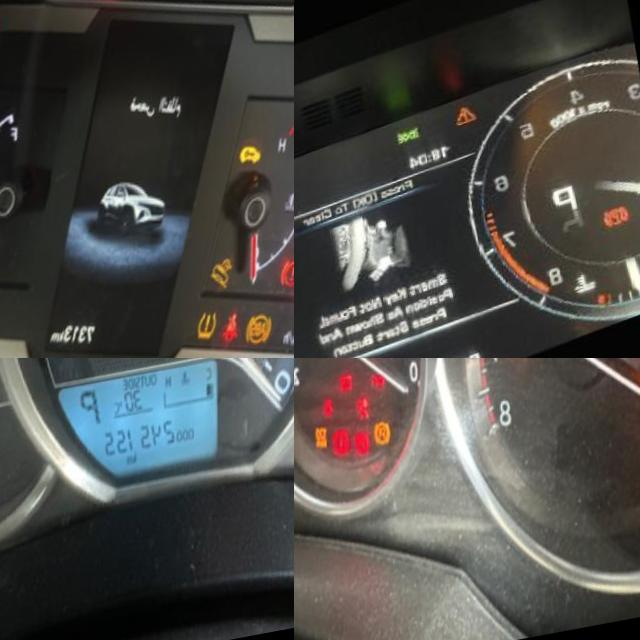Engine cooling system: (562, 291, 592, 322)
security: (238, 154, 266, 183)
